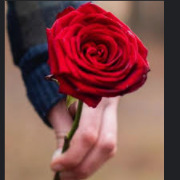RedRose: (45, 2, 150, 108)
